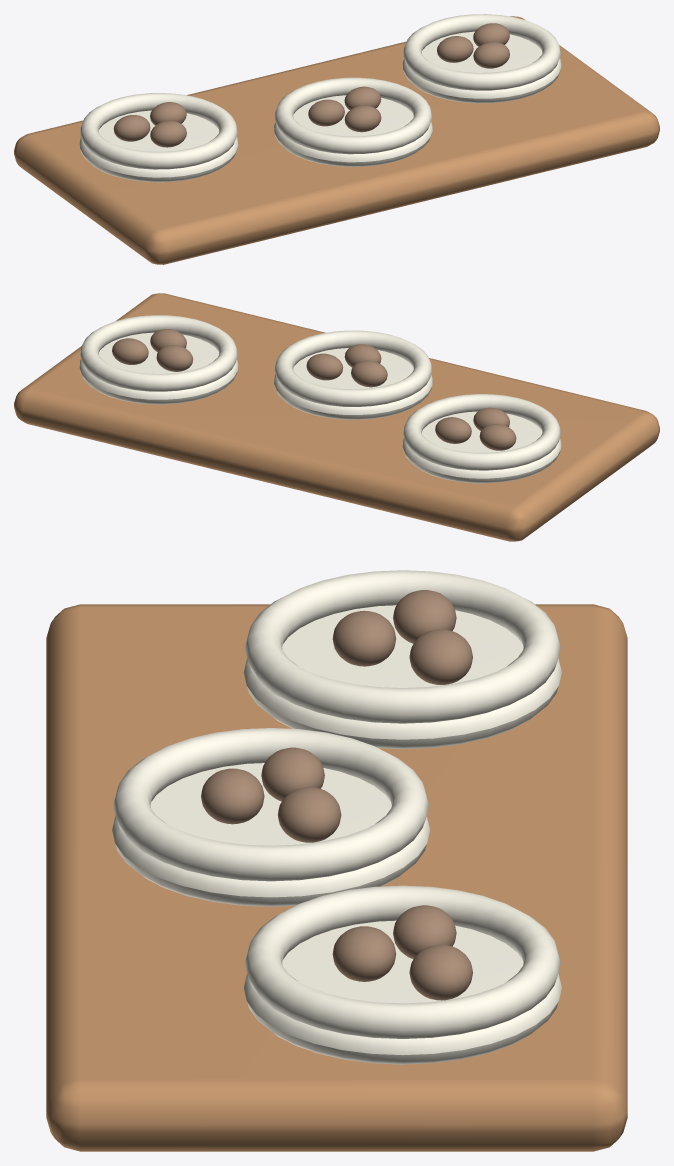
Rendered from foodTrailTray.glb.
3 views of the same model, one above another, from view 1: azimuth 30°, elevation 25°; view 2: azimuth 150°, elevation 25°; view 3: azimuth 270°, elevation 25° (orthographic). The views are drawn at different scales.
Visible parts, largest first — view 1: Food trail tray base, Shallow spot rim.001, Shallow spot rim, Shallow spot rim.002, Trail feeding spot.002, Trail feeding spot, Trail feeding spot.001, Feeder kibble.002, Feeder kibble.003, Feeder kibble.005, Feeder kibble, Feeder kibble.006 (+4 smaller); view 2: Food trail tray base, Shallow spot rim.001, Shallow spot rim, Shallow spot rim.002, Trail feeding spot.002, Trail feeding spot, Trail feeding spot.001, Feeder kibble, Feeder kibble.003, Feeder kibble.004, Feeder kibble.001, Feeder kibble.007 (+4 smaller); view 3: Food trail tray base, Shallow spot rim.002, Shallow spot rim.001, Shallow spot rim, Trail feeding spot.002, Trail feeding spot.001, Trail feeding spot, Feeder kibble.007, Feeder kibble.005, Feeder kibble.002, Feeder kibble.004, Feeder kibble.001 (+4 smaller).
Boxes of the visible parts, x1,y1,x2,y2 form: Food trail tray base: (14, 16, 659, 264); Shallow spot rim.001: (274, 77, 432, 154); Shallow spot rim: (80, 93, 237, 169); Shallow spot rim.002: (403, 14, 560, 90); Trail feeding spot.002: (402, 31, 561, 103); Trail feeding spot: (79, 110, 238, 182); Trail feeding spot.001: (274, 95, 432, 166); Feeder kibble.002: (150, 120, 186, 147); Feeder kibble.003: (308, 99, 344, 126); Feeder kibble.005: (344, 105, 381, 132); Feeder kibble: (113, 115, 150, 141); Feeder kibble.006: (437, 36, 473, 62); Food trail tray base: (14, 293, 659, 541); Shallow spot rim.001: (274, 330, 432, 406); Shallow spot rim: (403, 394, 560, 470); Shallow spot rim.002: (80, 315, 237, 391); Trail feeding spot.002: (79, 332, 238, 404); Trail feeding spot: (402, 411, 561, 483); Trail feeding spot.001: (274, 348, 432, 419); Feeder kibble: (479, 424, 516, 450); Feeder kibble.003: (351, 360, 387, 387); Feeder kibble.004: (306, 353, 343, 380); Feeder kibble.001: (435, 417, 471, 443); Feeder kibble.007: (112, 338, 148, 364); Food trail tray base: (46, 604, 627, 1151); Shallow spot rim.002: (245, 885, 560, 1038); Shallow spot rim.001: (113, 728, 428, 881); Shallow spot rim: (245, 570, 560, 723); Trail feeding spot.002: (243, 920, 561, 1064); Trail feeding spot.001: (112, 763, 430, 906); Trail feeding spot: (243, 605, 561, 749); Feeder kibble.007: (409, 944, 472, 1000); Feeder kibble.005: (201, 768, 264, 824); Feeder kibble.002: (332, 610, 396, 666); Feeder kibble.004: (277, 787, 341, 842); Feeder kibble.001: (409, 629, 472, 684).
Bounding box in the file's own units: 1.08 × 0.14 × 0.53.
